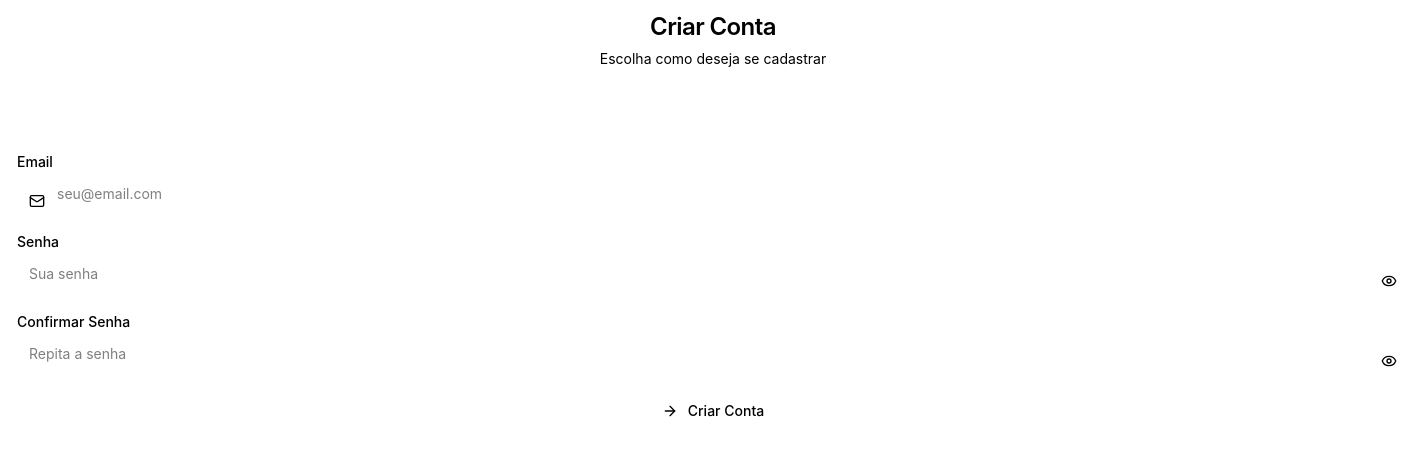
StepAccount › email validation on blur › shows error text when email validation returns invalid
The image size is (1427, 462).
Step 1. Type "user@tempmail.com" into the field labelled "Email" → (713, 193), box [17,173,1409,213]
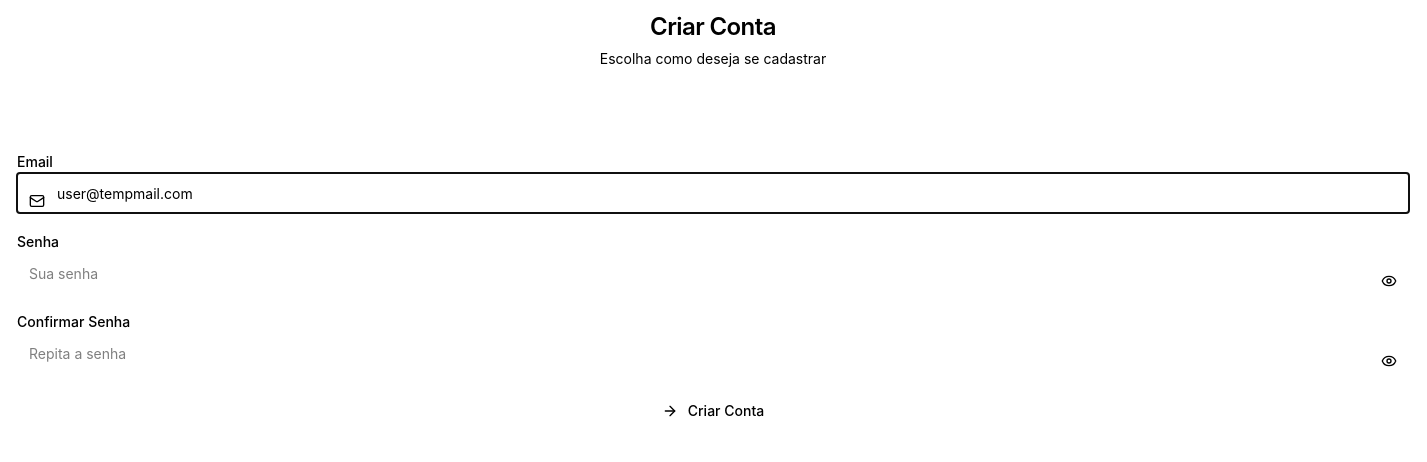
Step 2. Leave the field labelled "Email", box [17,173,1409,213]
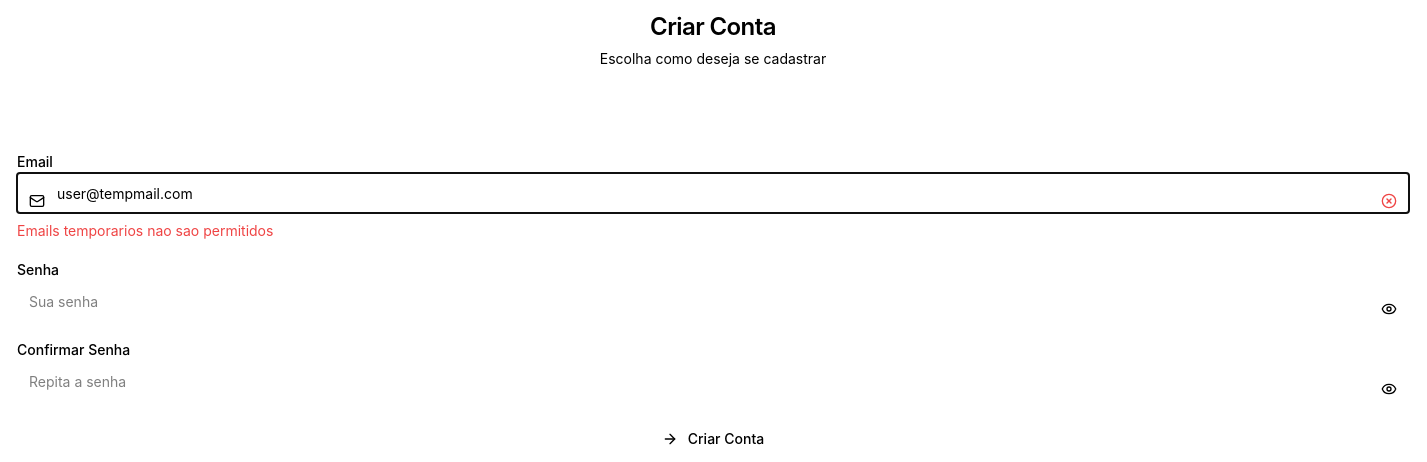
Now the text "Emails temporarios nao sao permitidos" is shown, box [17,222,273,239]
